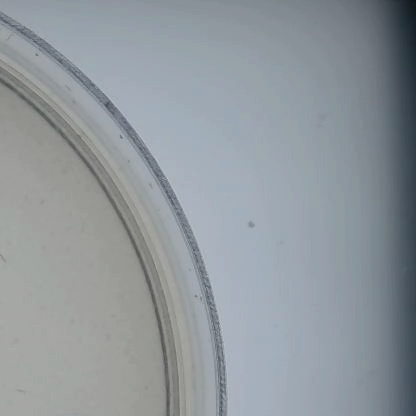worm: (9, 384, 33, 397), (0, 243, 13, 267)
